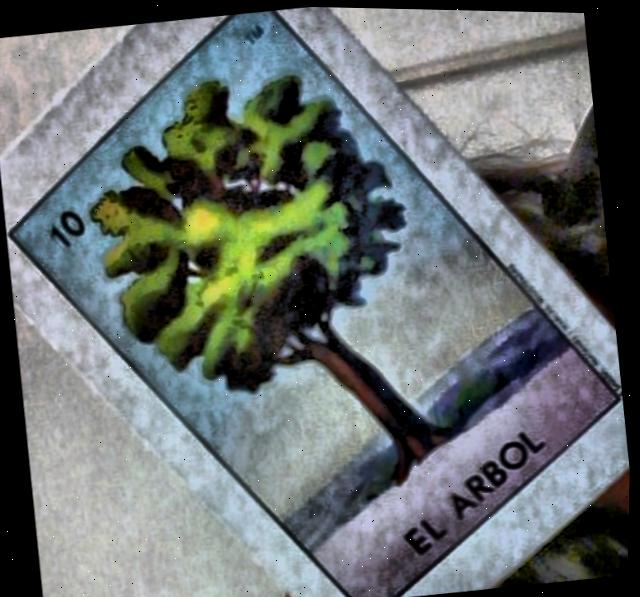El Arbol: (9, 9, 619, 597)
